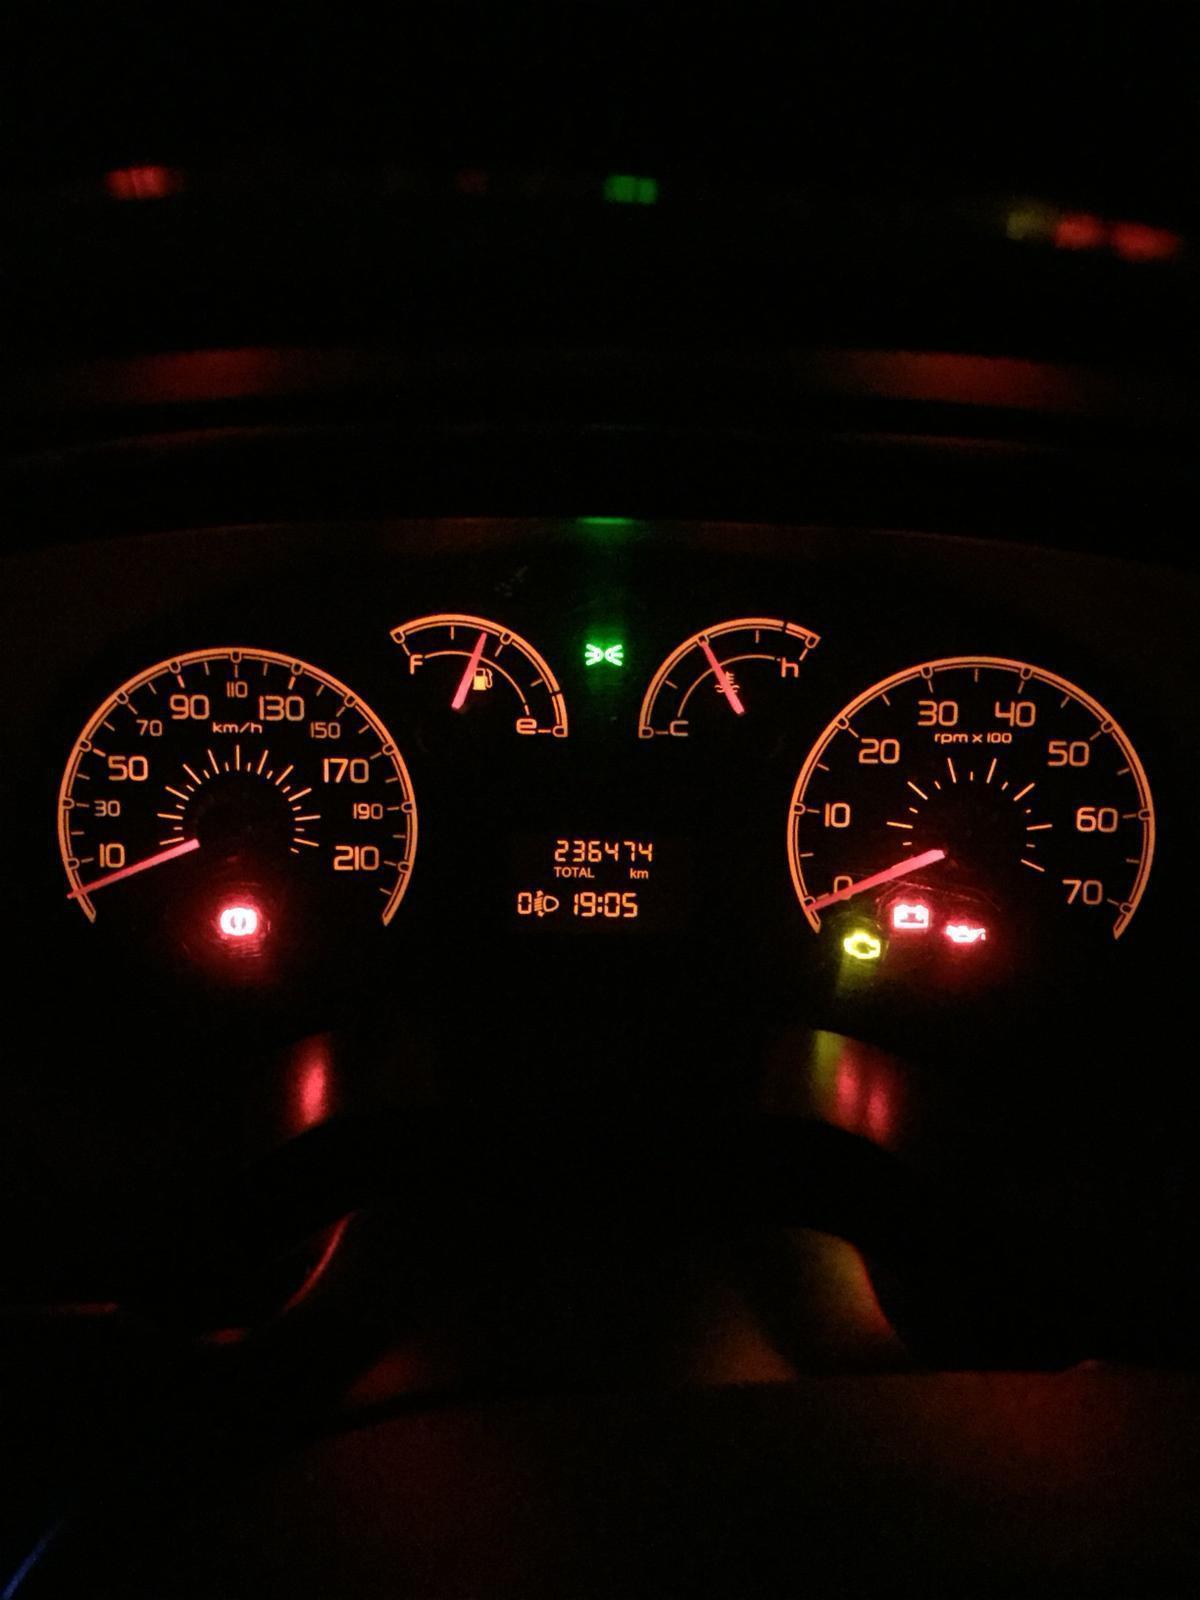0: (603, 889, 621, 918), (517, 889, 532, 916)
1: (571, 892, 579, 918)
2: (553, 837, 568, 862)
3: (572, 838, 586, 862)
4: (637, 842, 654, 863), (605, 842, 620, 862)
5: (623, 889, 640, 918)
6: (587, 839, 603, 863)
7: (623, 839, 637, 862)
9: (580, 889, 596, 918)
X: (637, 869, 648, 879), (629, 866, 637, 879), (579, 866, 587, 877), (562, 866, 571, 877), (587, 866, 595, 878), (597, 894, 603, 913), (571, 866, 579, 877), (553, 866, 561, 877)
odometer: (508, 829, 664, 929)
